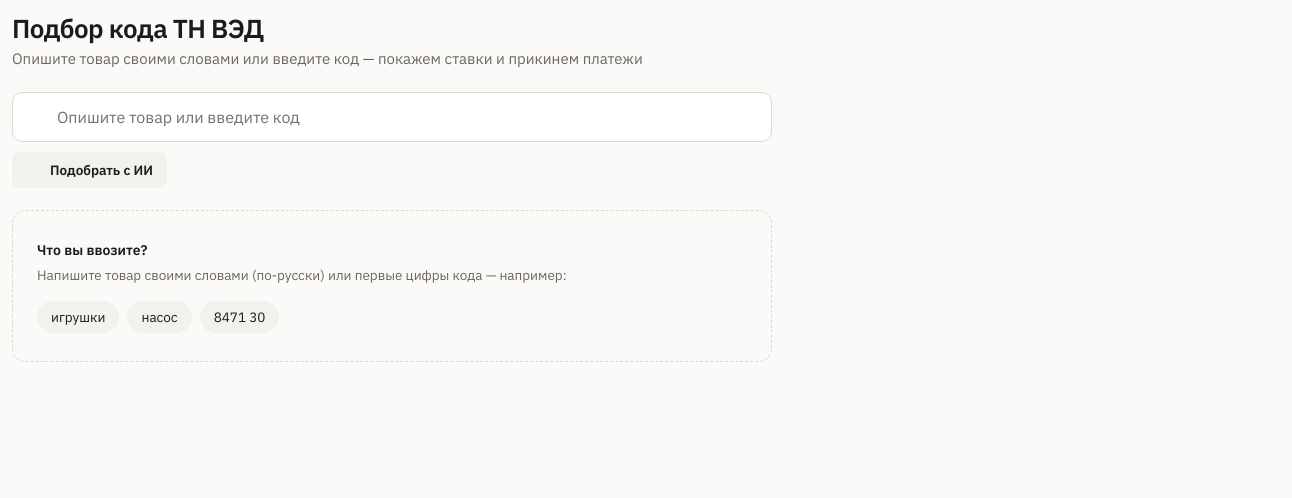
Scenario: ClientTnvedView › «ноутбук»: поиск пуст → подбор по описанию, совпадения со ставкой и вероятностью
Type "ноутбук" into the search field with placeholder "Опишите товар или введите код" at (406, 117), box [57,105,755,129]
Wait 400 ms
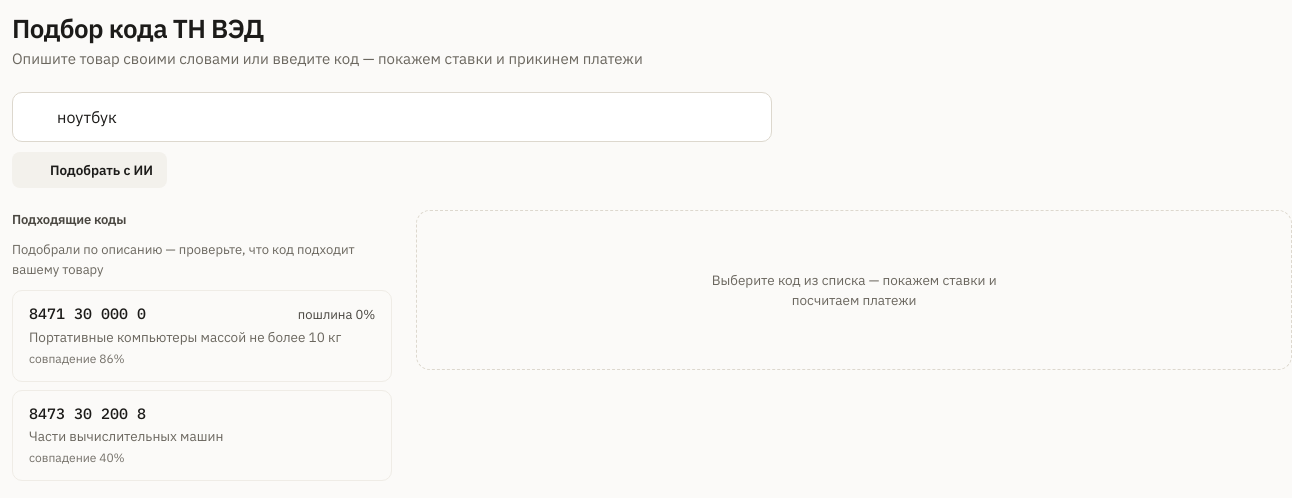
Check: the text "пошлина 0%" is shown, box [298,308,375,323]
Check: the text "совпадение 86%" is shown, box [29,351,125,366]
